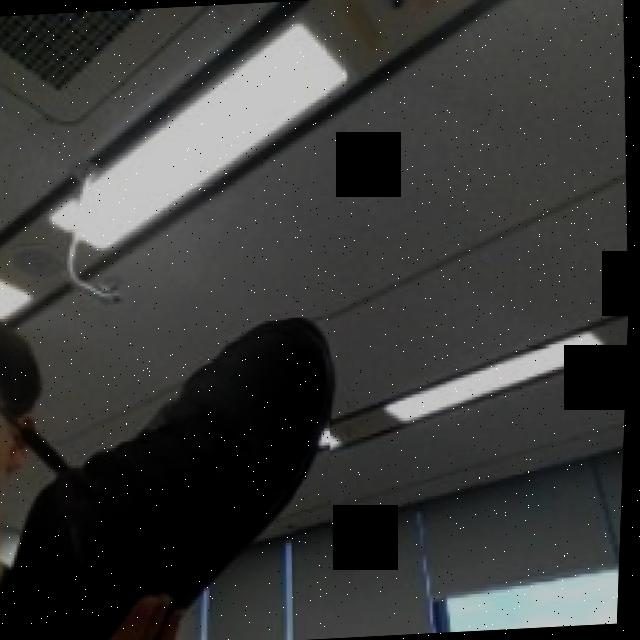shoe: (0, 316, 347, 640)
